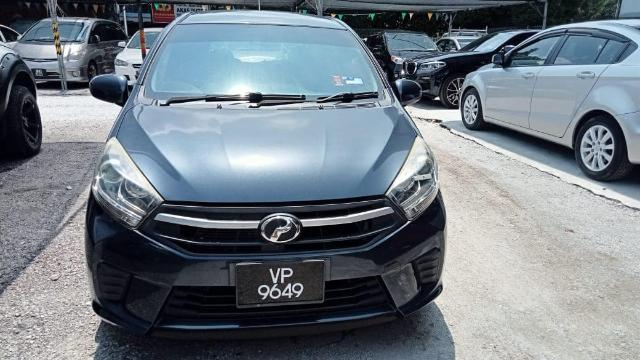License_Plate: (243, 263, 318, 308)
